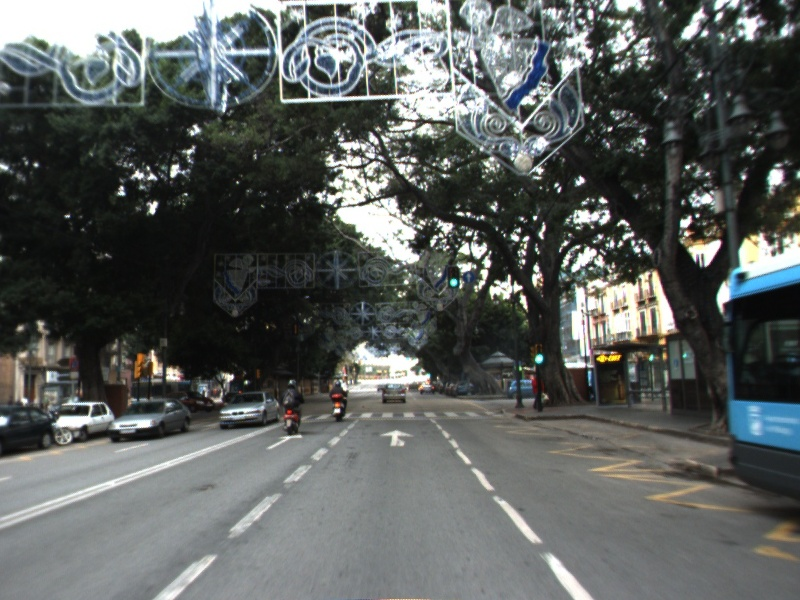STRAIGHT: (378, 427, 417, 448), (263, 432, 304, 451)
